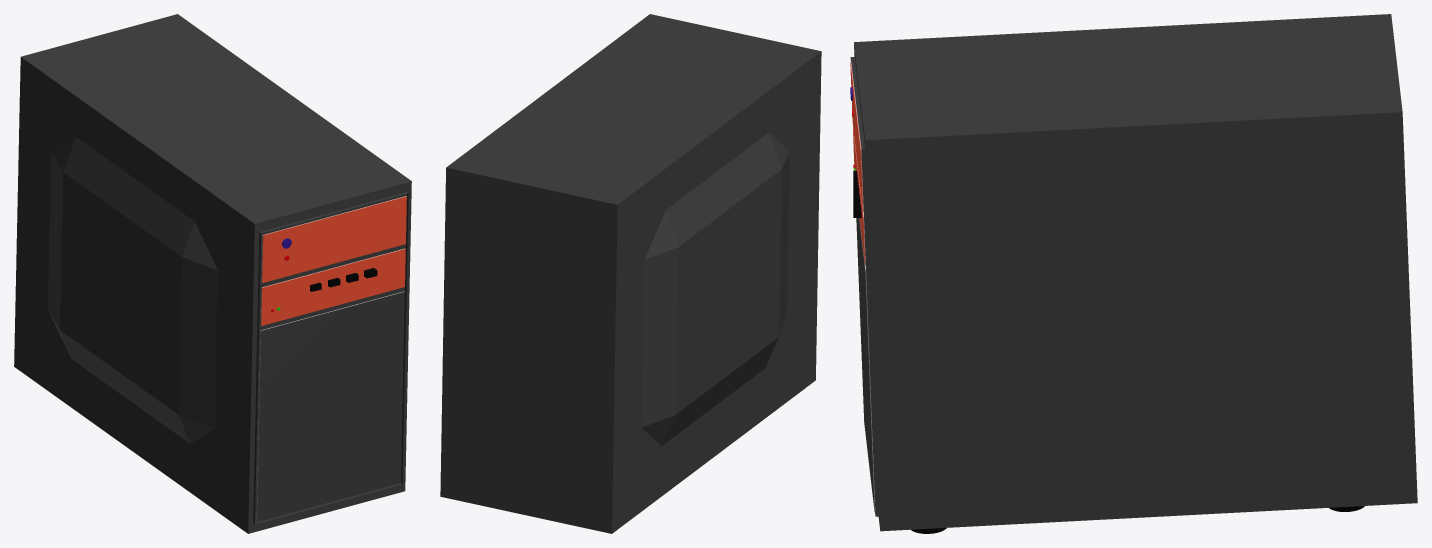
3 renders of one model, left to right at view 1: azimuth 30°, elevation 25°; view 2: azimuth 150°, elevation 25°; view 3: azimuth 270°, elevation 25°, orthographic. The views are drawn at different scales.
Visible parts, largest first — view 1: Корпус, Передняя панелька; view 2: Корпус; view 3: Корпус, Передняя панелька.
Part boxes in pixels (box(x1,y1,x2,y2)): Корпус: box(14, 14, 411, 533); Передняя панелька: box(256, 196, 406, 521); Корпус: box(440, 14, 821, 533); Корпус: box(850, 14, 1417, 531); Передняя панелька: box(850, 61, 875, 511).
Size of the model in its own units: 40.74 by 70.13 by 85.37.
